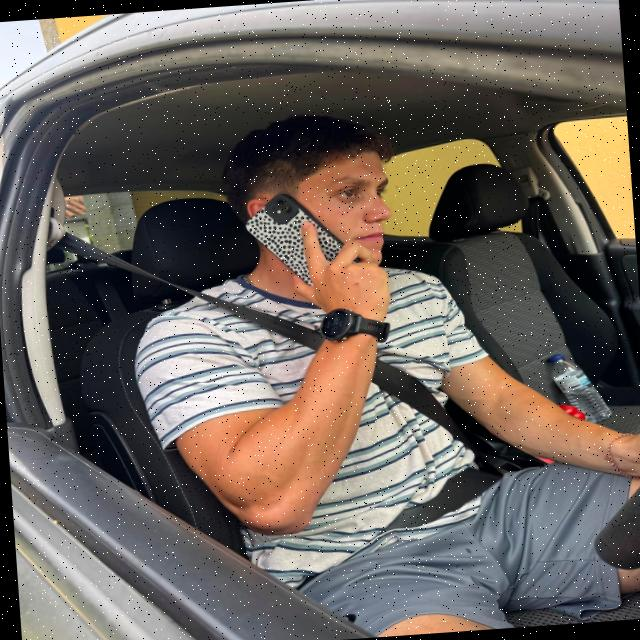Phone: (230, 181, 405, 303)
Seatbelt: (138, 257, 482, 485)
